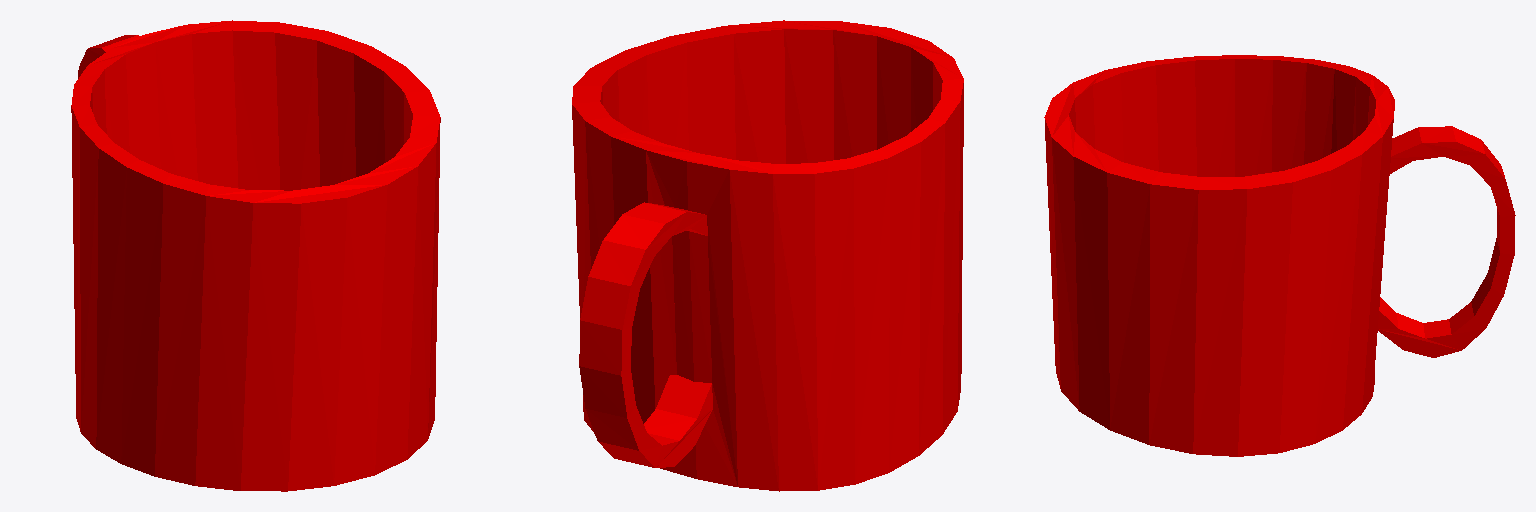
The robot description file, URDF, robot "tmp.urdf":
<?xml version="1.0" ?>
<robot name="tmp.urdf">
  <link name="baseLink">
    <inertial>
      <origin rpy="0 0 0" xyz="0 0 0"/>
       <mass value=".1"/>
       <inertia ixx="1" ixy="0" ixz="0" iyy="1" iyz="0" izz="1"/>
    </inertial>
    <contact>
      <lateral_friction value="1.0"/>
      <inertia_scaling value="3.0"/>
    </contact>
    <visual>
      <origin rpy="0 0 0" xyz="0 0 0"/>
      <geometry>
        <mesh filename="tmp_source_2.stl" scale="1 1 1" />
      </geometry>
      <material name="red">
        <color rgba="1 0 0 1"/>
      </material>
    </visual>
    <collision>
      <origin rpy="0 0 0" xyz="0 0 0"/>
      <geometry>
        <mesh filename="tmp_source_2.obj" scale="1 1 1" />
      </geometry>
    </collision>
  </link>
</robot>

--- What the picture shows (computed from the rendered views, not written in the file) ---
3 views of the same robot in one strip: view 1: azimuth 30°, elevation 25°; view 2: azimuth 150°, elevation 25°; view 3: azimuth 270°, elevation 25° (orthographic).
Model tmp.urdf with 1 links and 0 joints (none), rooted at baseLink, posed every joint at zero.
Visible links, largest first — view 1: baseLink; view 2: baseLink; view 3: baseLink.
Link boxes in pixels (bbox=[...]): baseLink: bbox=[71, 20, 440, 491]; baseLink: bbox=[572, 20, 963, 491]; baseLink: bbox=[1044, 55, 1515, 456].
Bounding box of the posed robot: 0.0855 × 0.1264 × 0.0836 m (x, y, z).
1 mesh visuals loaded from 1 distinct referenced files (1 binary STL).